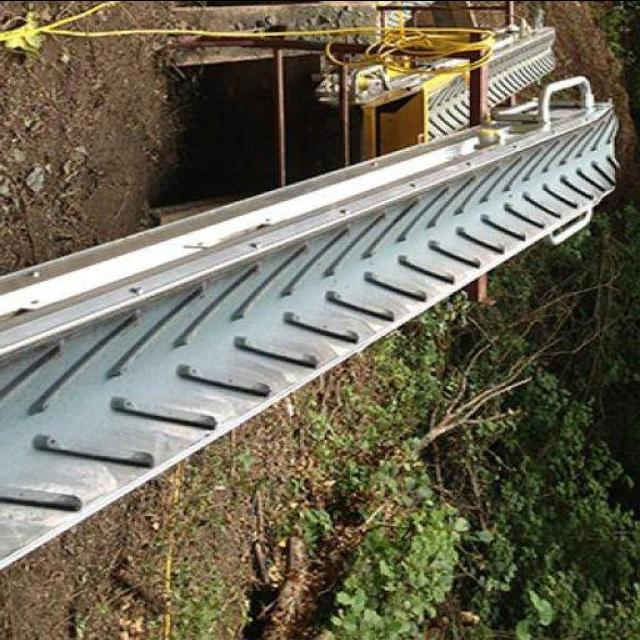conveyor: (0, 109, 618, 565)
